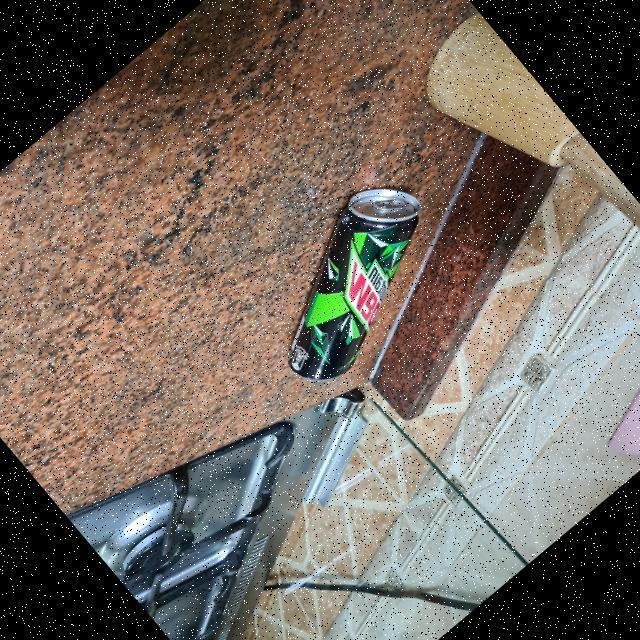can: (228, 159, 477, 399)
